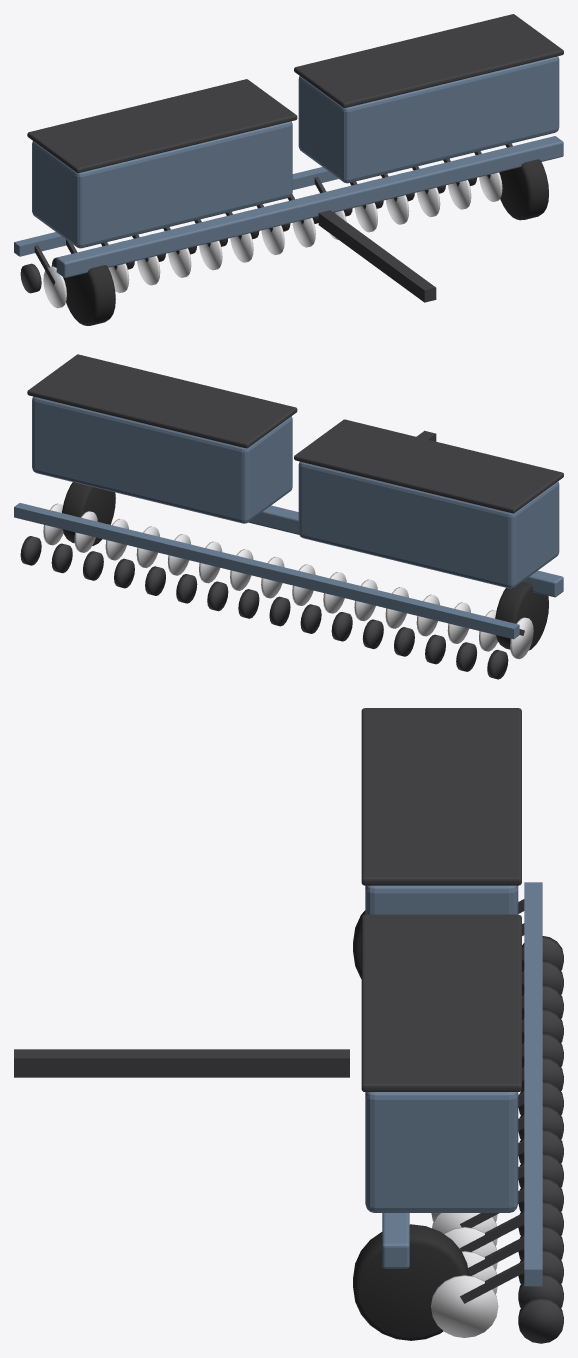
Rendered from Seeder.fbx.
3 renders of one model, top to bottom at view 1: azimuth 30°, elevation 25°; view 2: azimuth 150°, elevation 25°; view 3: azimuth 270°, elevation 25°, orthographic. The views are drawn at different scales.
Parts seen in each view (by area): view 1: Hopper1, Hopper0, Lid0, Lid1, Frame, Tongue, Transport-1, Transport1, FrameRear, Disc0, Disc6, Disc13 (+11 smaller); view 2: Hopper0, Hopper1, Lid0, Lid1, FrameRear, Transport-1, Transport1, Frame, Disc0, Press15, Press9, Press0 (+27 smaller); view 3: Lid0, Lid1, Hopper1, Tongue, Transport1, FrameRear, Hopper0, Disc15, Press15, Frame, Press14, Disc12.
Boxes of the visible parts, <box> form: Hopper1: <box>298,56,559,183</box>; Hopper0: <box>32,121,292,248</box>; Lid0: <box>27,79,297,173</box>; Lid1: <box>294,14,563,107</box>; Frame: <box>56,136,563,277</box>; Tongue: <box>318,210,436,302</box>; Transport-1: <box>63,265,115,325</box>; Transport1: <box>499,159,548,220</box>; FrameRear: <box>14,167,338,256</box>; Disc0: <box>43,266,66,308</box>; Disc6: <box>230,233,253,262</box>; Disc13: <box>448,180,471,209</box>; Hopper0: <box>298,461,559,588</box>; Hopper1: <box>32,396,292,523</box>; Lid0: <box>294,419,563,513</box>; Lid1: <box>27,354,297,448</box>; FrameRear: <box>14,503,519,639</box>; Transport-1: <box>495,581,548,650</box>; Transport1: <box>62,482,115,545</box>; Frame: <box>248,505,563,597</box>; Disc0: <box>510,617,533,659</box>; Press15: <box>20,536,41,565</box>; Press9: <box>207,581,228,611</box>; Press0: <box>487,649,508,679</box>; Lid0: <box>361,708,521,885</box>; Lid1: <box>361,914,521,1091</box>; Hopper1: <box>365,1092,518,1212</box>; Tongue: <box>14,1049,349,1077</box>; Transport1: <box>353,1224,468,1340</box>; FrameRear: <box>524,882,542,1286</box>; Hopper0: <box>365,885,518,914</box>; Disc15: <box>431,1275,498,1337</box>; Press15: <box>518,1297,563,1343</box>; Frame: <box>382,1213,409,1268</box>; Press14: <box>518,1273,563,1307</box>; Disc12: <box>432,1213,497,1245</box>.
Size of the model in its own units: 6 by 1.96 by 3.6.
